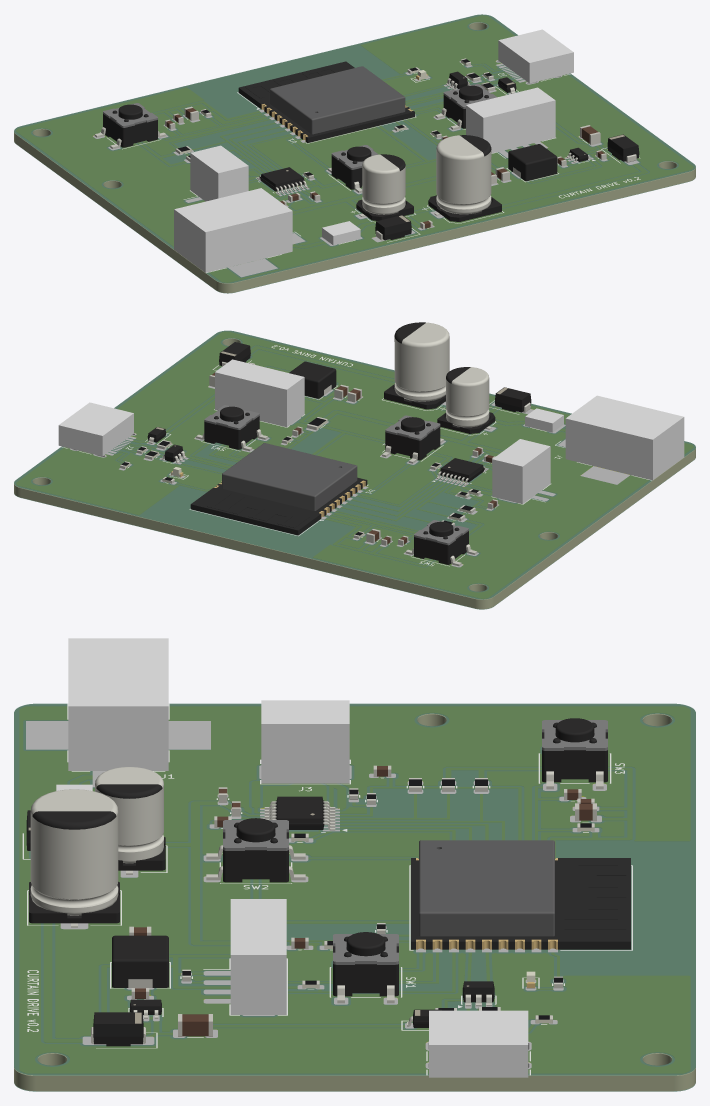
The model's file is curtain-drive-pcb.glb.
The picture shows the model from 3 angles, top to bottom: view 1: azimuth 30°, elevation 25°; view 2: azimuth 150°, elevation 25°; view 3: azimuth 270°, elevation 25°; orthographic projection. The views are drawn at different scales.
Visible parts, largest first — view 1: =>[0:1:1:55], =>[0:1:1:52], =>[0:1:1:57], =>[0:1:1:11], =>[0:1:1:33], =>[0:1:1:37], =>[0:1:1:27] (×3), =>[0:1:1:23], =>[0:1:1:7], =>[0:1:1:31], =>[0:1:1:51], =>[0:1:1:53] (+6 smaller); view 2: =>[0:1:1:55], =>[0:1:1:52], =>[0:1:1:57], =>[0:1:1:11], =>[0:1:1:33], =>[0:1:1:27] (×3), =>[0:1:1:37], =>[0:1:1:23], =>[0:1:1:51], =>[0:1:1:7], =>[0:1:1:31], =>[0:1:1:53] (+6 smaller); view 3: =>[0:1:1:55], =>[0:1:1:52], =>[0:1:1:57], =>[0:1:1:11], =>[0:1:1:33], =>[0:1:1:27] (×3), =>[0:1:1:37], =>[0:1:1:51], =>[0:1:1:7], =>[0:1:1:53], =>[0:1:1:23], =>[0:1:1:31] (+7 smaller).
Boxes of the visible parts, left/top/right/bottom form: =>[0:1:1:55]: left=14, top=14, right=695, bottom=283; =>[0:1:1:52]: left=16, top=16, right=693, bottom=282; =>[0:1:1:57]: left=14, top=15, right=695, bottom=293; =>[0:1:1:11]: left=238, top=61, right=414, bottom=142; =>[0:1:1:33]: left=174, top=188, right=292, bottom=272; =>[0:1:1:37]: left=428, top=135, right=501, bottom=221; =>[0:1:1:27] (×3): left=94, top=84, right=496, bottom=192; =>[0:1:1:23]: left=466, top=87, right=555, bottom=153; =>[0:1:1:7]: left=498, top=29, right=573, bottom=83; =>[0:1:1:31]: left=356, top=154, right=413, bottom=220; =>[0:1:1:51]: left=190, top=145, right=248, bottom=201; =>[0:1:1:53]: left=93, top=60, right=639, bottom=277; =>[0:1:1:55]: left=14, top=330, right=695, bottom=599; =>[0:1:1:52]: left=16, top=332, right=693, bottom=598; =>[0:1:1:57]: left=14, top=331, right=695, bottom=609; =>[0:1:1:11]: left=190, top=443, right=367, bottom=535; =>[0:1:1:33]: left=565, top=395, right=684, bottom=480; =>[0:1:1:27] (×3): left=196, top=405, right=477, bottom=566; =>[0:1:1:37]: left=384, top=322, right=449, bottom=409; =>[0:1:1:23]: left=215, top=359, right=304, bottom=427; =>[0:1:1:51]: left=492, top=439, right=550, bottom=503; =>[0:1:1:7]: left=58, top=402, right=133, bottom=456; =>[0:1:1:31]: left=437, top=367, right=495, bottom=433; =>[0:1:1:53]: left=70, top=356, right=629, bottom=567; =>[0:1:1:55]: left=14, top=703, right=695, bottom=1075; =>[0:1:1:52]: left=20, top=707, right=689, bottom=1072; =>[0:1:1:57]: left=14, top=705, right=695, bottom=1091; =>[0:1:1:11]: left=411, top=840, right=630, bottom=949; =>[0:1:1:33]: left=68, top=638, right=168, bottom=770; =>[0:1:1:27] (×3): left=206, top=718, right=607, bottom=1003; =>[0:1:1:37]: left=29, top=789, right=119, bottom=927; =>[0:1:1:51]: left=261, top=700, right=349, bottom=783; =>[0:1:1:7]: left=429, top=1010, right=528, bottom=1077; =>[0:1:1:53]: left=26, top=721, right=606, bottom=1068; =>[0:1:1:23]: left=230, top=899, right=286, bottom=1014; =>[0:1:1:31]: left=95, top=767, right=165, bottom=874.
Size of the model in its own units: 0.0805 by 0.0116 by 0.062.
